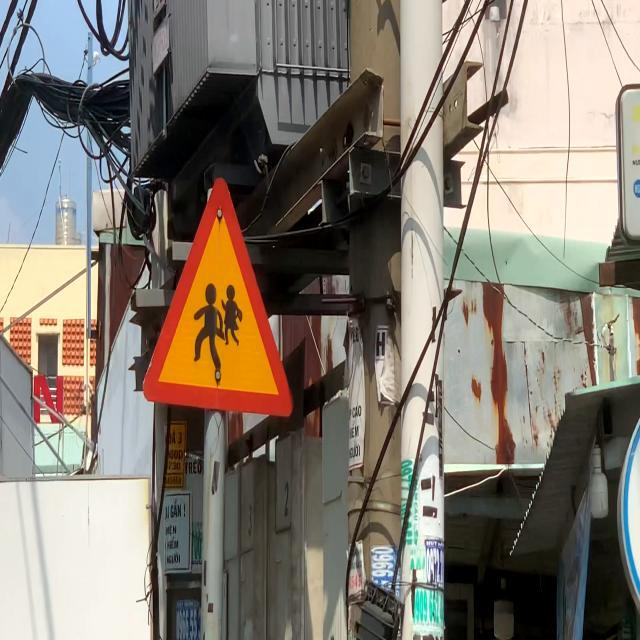Tre em: (142, 172, 294, 418)
